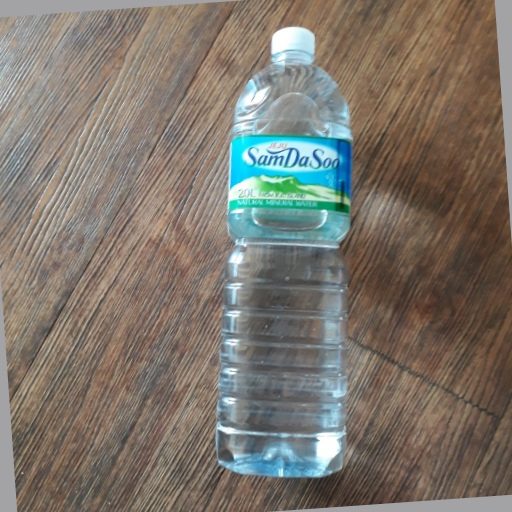Plastic_0: (217, 24, 353, 476)
